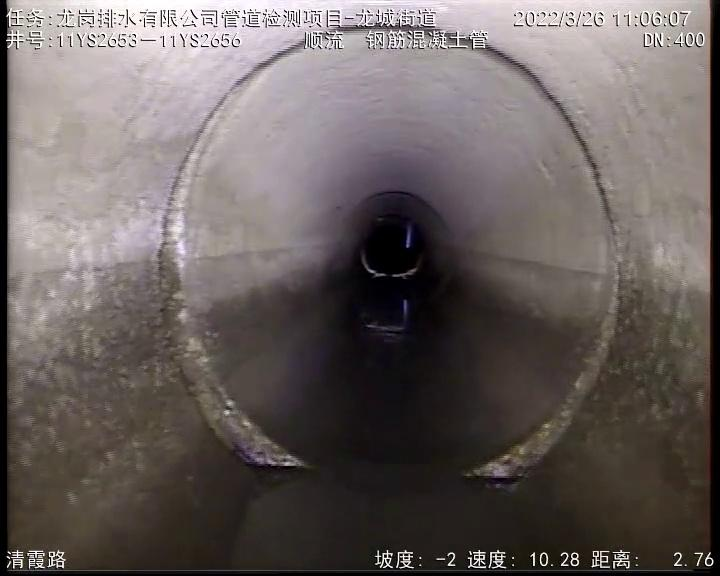CKTJ: (462, 39, 624, 487), (158, 41, 309, 467)
